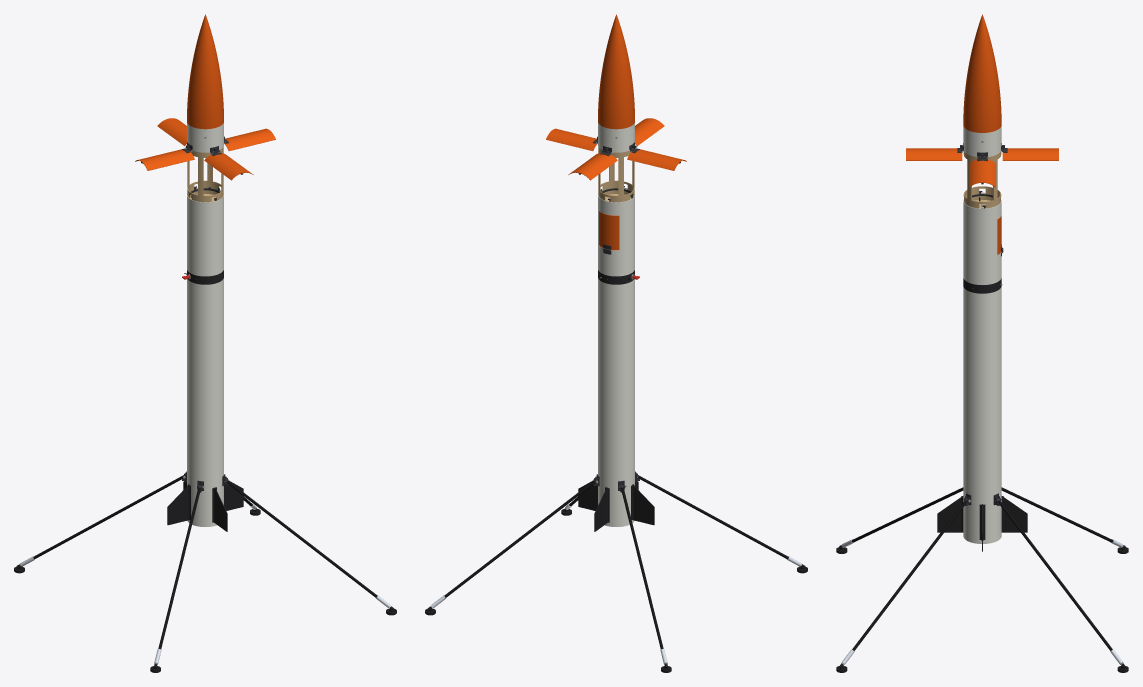
File: slr1_landing.glb
3 views of the same model, side by side, from view 1: azimuth 30°, elevation 25°; view 2: azimuth 150°, elevation 25°; view 3: azimuth 270°, elevation 25° (orthographic). The views are drawn at different scales.
Parts seen in each view (by area): view 1: TUBE-04-1, NOSE-01-1, TUBE-02-1, CPL-01-1, TUBE-01-1, PETAL-01-3, PETAL-01-1, LEG-STRUT-4, PETAL-01-4, LEG-STRUT-2, LEG-STRUT-3, FIN-01-3; view 2: TUBE-04-1, NOSE-01-1, TUBE-02-1, CPL-01-1, TUBE-01-1, DOOR-01-1, PETAL-01-3, LEG-STRUT-1, PETAL-01-1, PETAL-01-2, LEG-STRUT-3, LEG-STRUT-2 (+1 smaller); view 3: TUBE-04-1, NOSE-01-1, TUBE-02-1, CPL-01-1, TUBE-01-1, PETAL-01-2, PETAL-01-4, LEG-STRUT-1, LEG-STRUT-4, PETAL-01-1, FIN-01-2, FIN-01-4 (+2 smaller).
Part boxes in pixels (x1,y1,x2,y2): TUBE-04-1: (187,278,223,526); NOSE-01-1: (187,14,223,129); TUBE-02-1: (187,187,223,276); CPL-01-1: (187,147,223,202); TUBE-01-1: (187,123,223,152); PETAL-01-3: (135,149,194,170); PETAL-01-1: (224,128,275,150); LEG-STRUT-4: (226,480,377,597); PETAL-01-4: (204,152,253,180); LEG-STRUT-2: (33,475,183,559); LEG-STRUT-3: (158,487,200,649); FIN-01-3: (167,484,189,525); TUBE-04-1: (598,278,634,526); NOSE-01-1: (598,14,634,129); TUBE-02-1: (598,187,634,276); CPL-01-1: (598,147,634,202); TUBE-01-1: (598,123,634,152); DOOR-01-1: (599,211,619,250); PETAL-01-3: (627,149,686,170); LEG-STRUT-1: (444,480,595,597); PETAL-01-1: (546,128,597,150); PETAL-01-2: (568,152,617,180); LEG-STRUT-3: (638,475,788,559); LEG-STRUT-2: (621,487,663,649); TUBE-04-1: (963,287,1001,543); NOSE-01-1: (963,14,1001,132); TUBE-02-1: (963,192,1001,284); CPL-01-1: (963,151,1001,208); TUBE-01-1: (963,126,1001,156); PETAL-01-2: (1002,148,1058,160); PETAL-01-4: (906,148,962,160); LEG-STRUT-1: (998,500,1112,651); LEG-STRUT-4: (852,500,966,651); PETAL-01-1: (969,159,995,187); FIN-01-2: (1001,496,1027,532); FIN-01-4: (937,496,963,532).
Size of the model in its own units: 774 by 1744 by 774.
